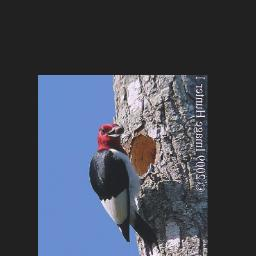Woodpecker: (87, 115, 165, 256)
